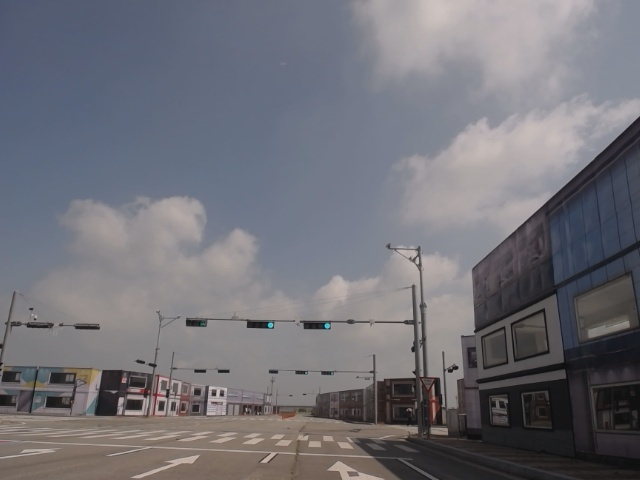straight_green_4: (303, 320, 332, 330), (246, 320, 275, 329)
